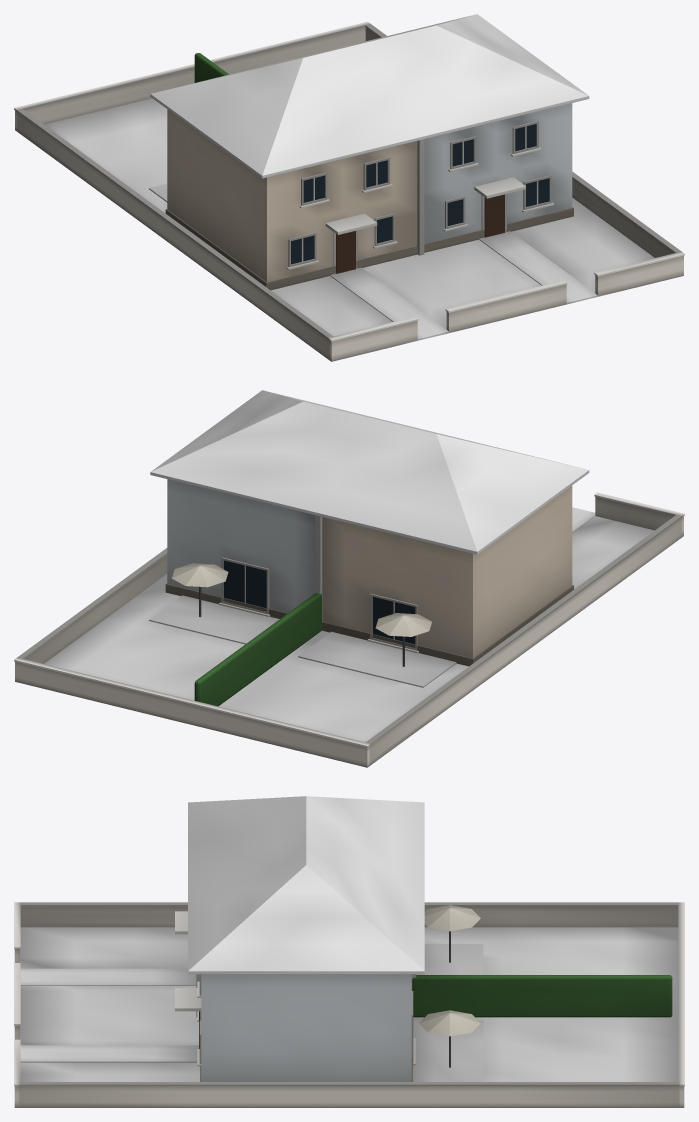
File: duplex-C1zsl5Qm.glb
The picture shows the model from 3 angles, top to bottom: view 1: azimuth 30°, elevation 25°; view 2: azimuth 150°, elevation 25°; view 3: azimuth 270°, elevation 25°; orthographic projection. The views are drawn at different scales.
Visible parts, largest first — view 1: techo, pasto, pieza.014, pieza.015, pieza.008, pieza.006, pieza.016, pieza.012, pieza.013, pieza.002, pieza.009, pieza.010 (+13 smaller); view 2: techo, pasto, pieza.014, pieza.015, pieza.006, pieza.008, pieza.024, pieza.019, pieza.022, pieza.010, pieza.016, pieza.009 (+8 smaller); view 3: pasto, techo, pieza.015, pieza.010, pieza.024, pieza.008, pieza.022, pieza.011, pieza.013, pieza.012, pieza.009, pieza.019 (+4 smaller).
Part boxes in pixels (bbox=[...]): techo: bbox=[150, 14, 589, 178]; pasto: bbox=[15, 98, 683, 361]; pieza.014: bbox=[167, 109, 417, 282]; pieza.015: bbox=[424, 103, 572, 243]; pieza.008: bbox=[17, 112, 328, 359]; pieza.006: bbox=[15, 27, 365, 130]; pieza.016: bbox=[165, 207, 573, 290]; pieza.012: bbox=[330, 267, 448, 339]; pieza.013: bbox=[479, 231, 597, 303]; pieza.002: bbox=[446, 284, 566, 332]; pieza.009: bbox=[16, 109, 333, 339]; pieza.010: bbox=[365, 27, 673, 257]; techo: bbox=[150, 390, 589, 554]; pasto: bbox=[15, 516, 683, 767]; pieza.014: bbox=[322, 485, 572, 658]; pieza.015: bbox=[167, 479, 315, 613]; pieza.006: bbox=[15, 661, 369, 766]; pieza.008: bbox=[370, 518, 681, 765]; pieza.024: bbox=[194, 593, 321, 706]; pieza.019: bbox=[298, 631, 456, 687]; pieza.022: bbox=[149, 595, 279, 644]; pieza.010: bbox=[24, 555, 167, 663]; pieza.016: bbox=[165, 583, 573, 666]; pieza.009: bbox=[365, 514, 682, 745]; pasto: bbox=[14, 927, 684, 1107]; techo: bbox=[188, 796, 424, 974]; pieza.015: bbox=[201, 974, 411, 1081]; pieza.010: bbox=[20, 1086, 678, 1107]; pieza.024: bbox=[412, 975, 672, 1017]; pieza.008: bbox=[20, 906, 678, 927]; pieza.022: bbox=[413, 1020, 483, 1081]; pieza.011: bbox=[19, 1082, 679, 1086]; pieza.013: bbox=[20, 1045, 198, 1062]; pieza.012: bbox=[20, 968, 196, 985]; pieza.009: bbox=[20, 902, 678, 906]; pieza.019: bbox=[416, 944, 483, 974].
Bounding box in the file's own units: 18.06 × 8.6 × 28.06.
